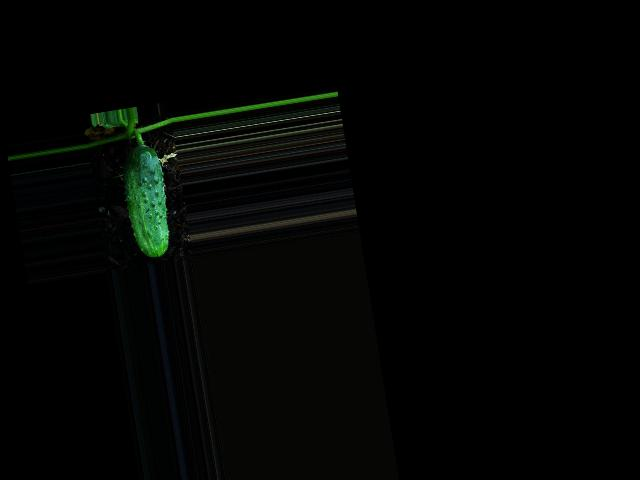cucumber: (117, 143, 176, 261)
